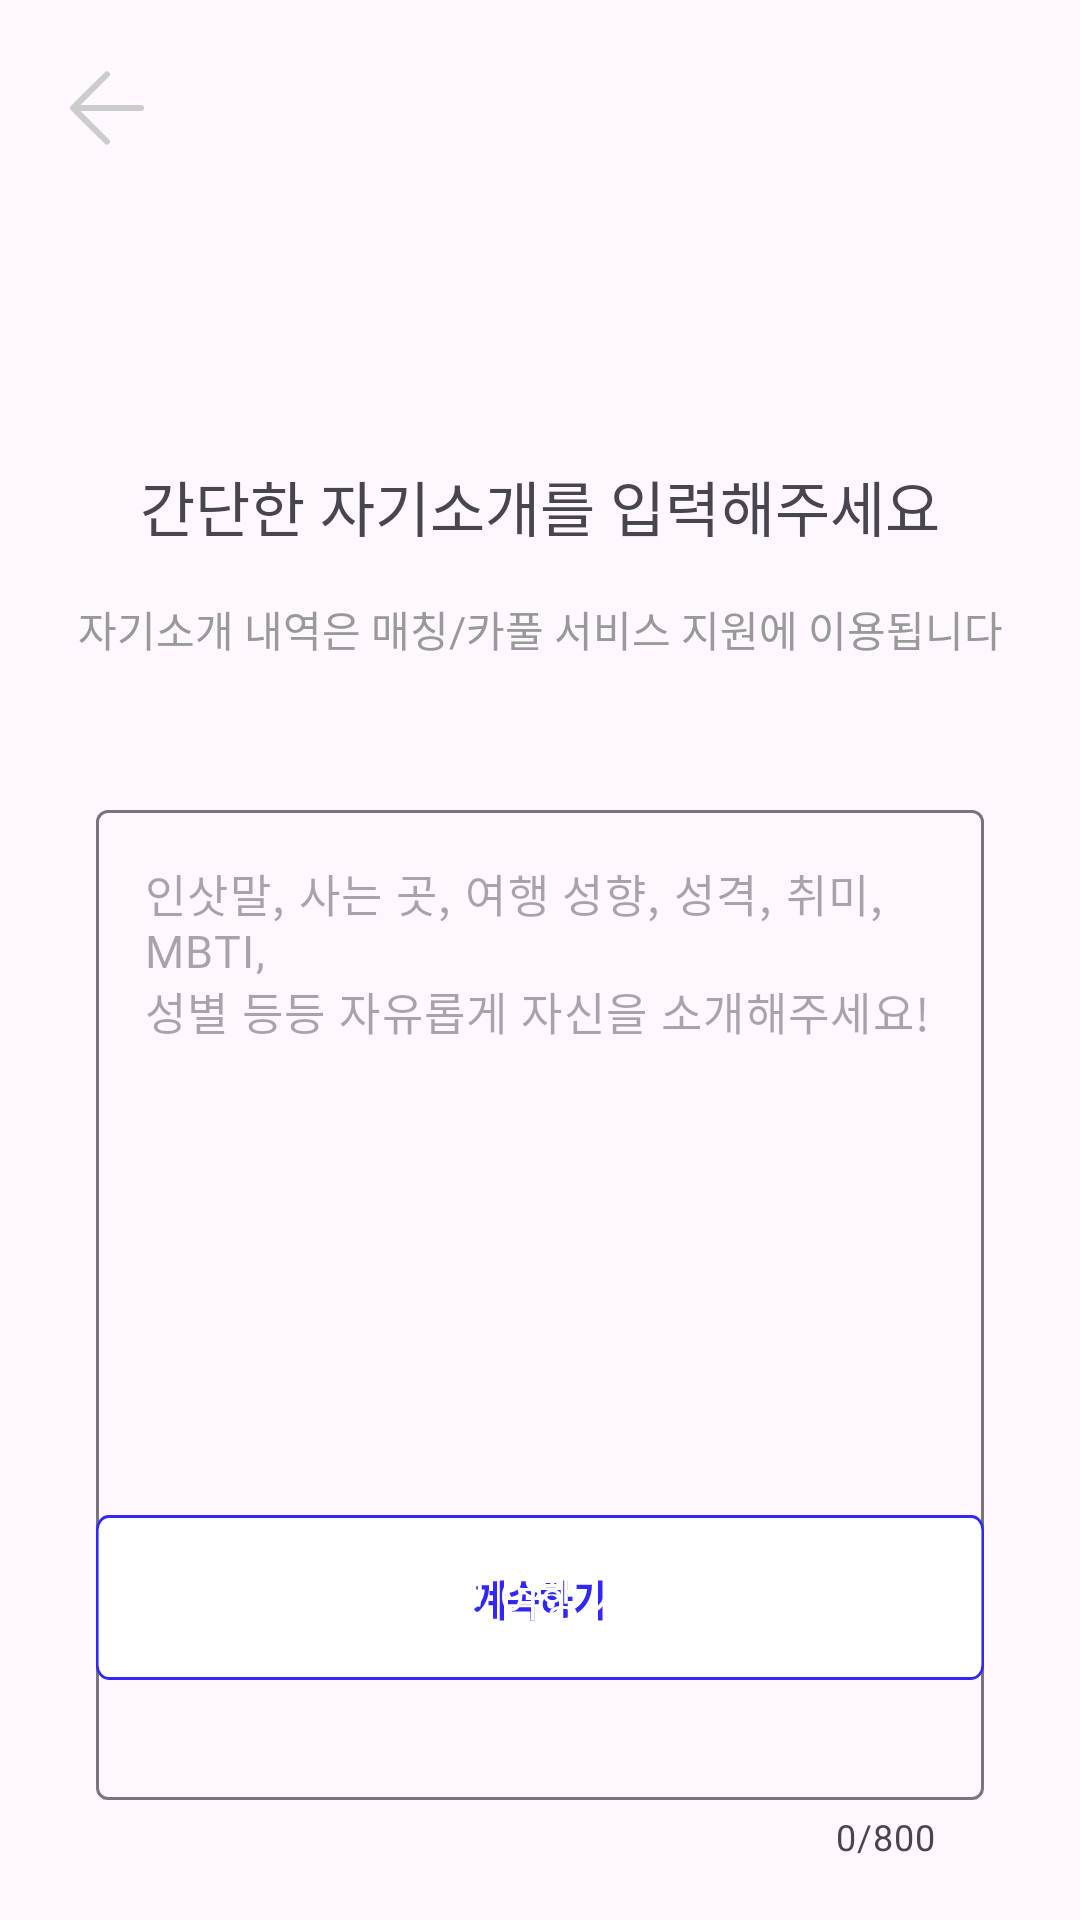

Where icons sit on this 1080*1920 app screen, as (x1, y1, x2, y2):
navigation: (70, 71, 144, 145)
